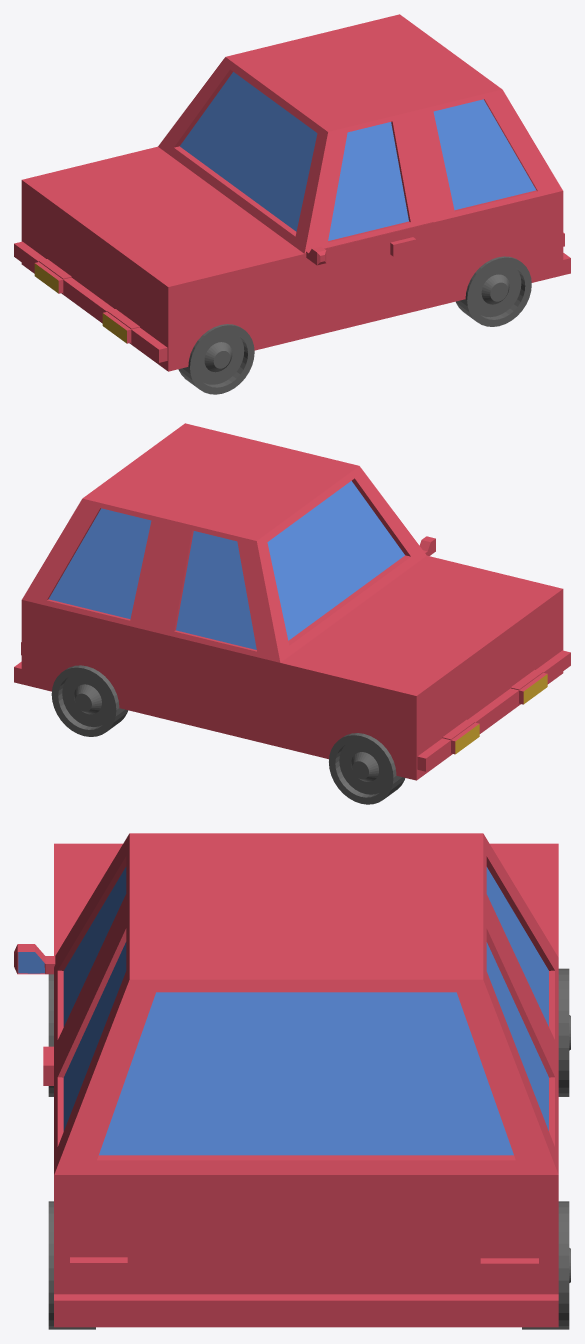
Rendered from Car.fbx.
3 views of the same model, one above another, from view 1: azimuth 30°, elevation 25°; view 2: azimuth 150°, elevation 25°; view 3: azimuth 270°, elevation 25° (orthographic). The views are drawn at different scales.
Parts seen in each view (by area): view 1: Cube, Cylinder.003; view 2: Cube, Cylinder.003; view 3: Cube, Cylinder.003.
Part boxes in pixels (x1,y1,x2,y2): Cube: (14, 14, 570, 371); Cylinder.003: (178, 256, 531, 394); Cube: (14, 423, 570, 780); Cylinder.003: (51, 665, 405, 804); Cube: (14, 833, 558, 1327); Cylinder.003: (48, 968, 570, 1329).
Size of the model in its own units: 609 by 298 by 411.
